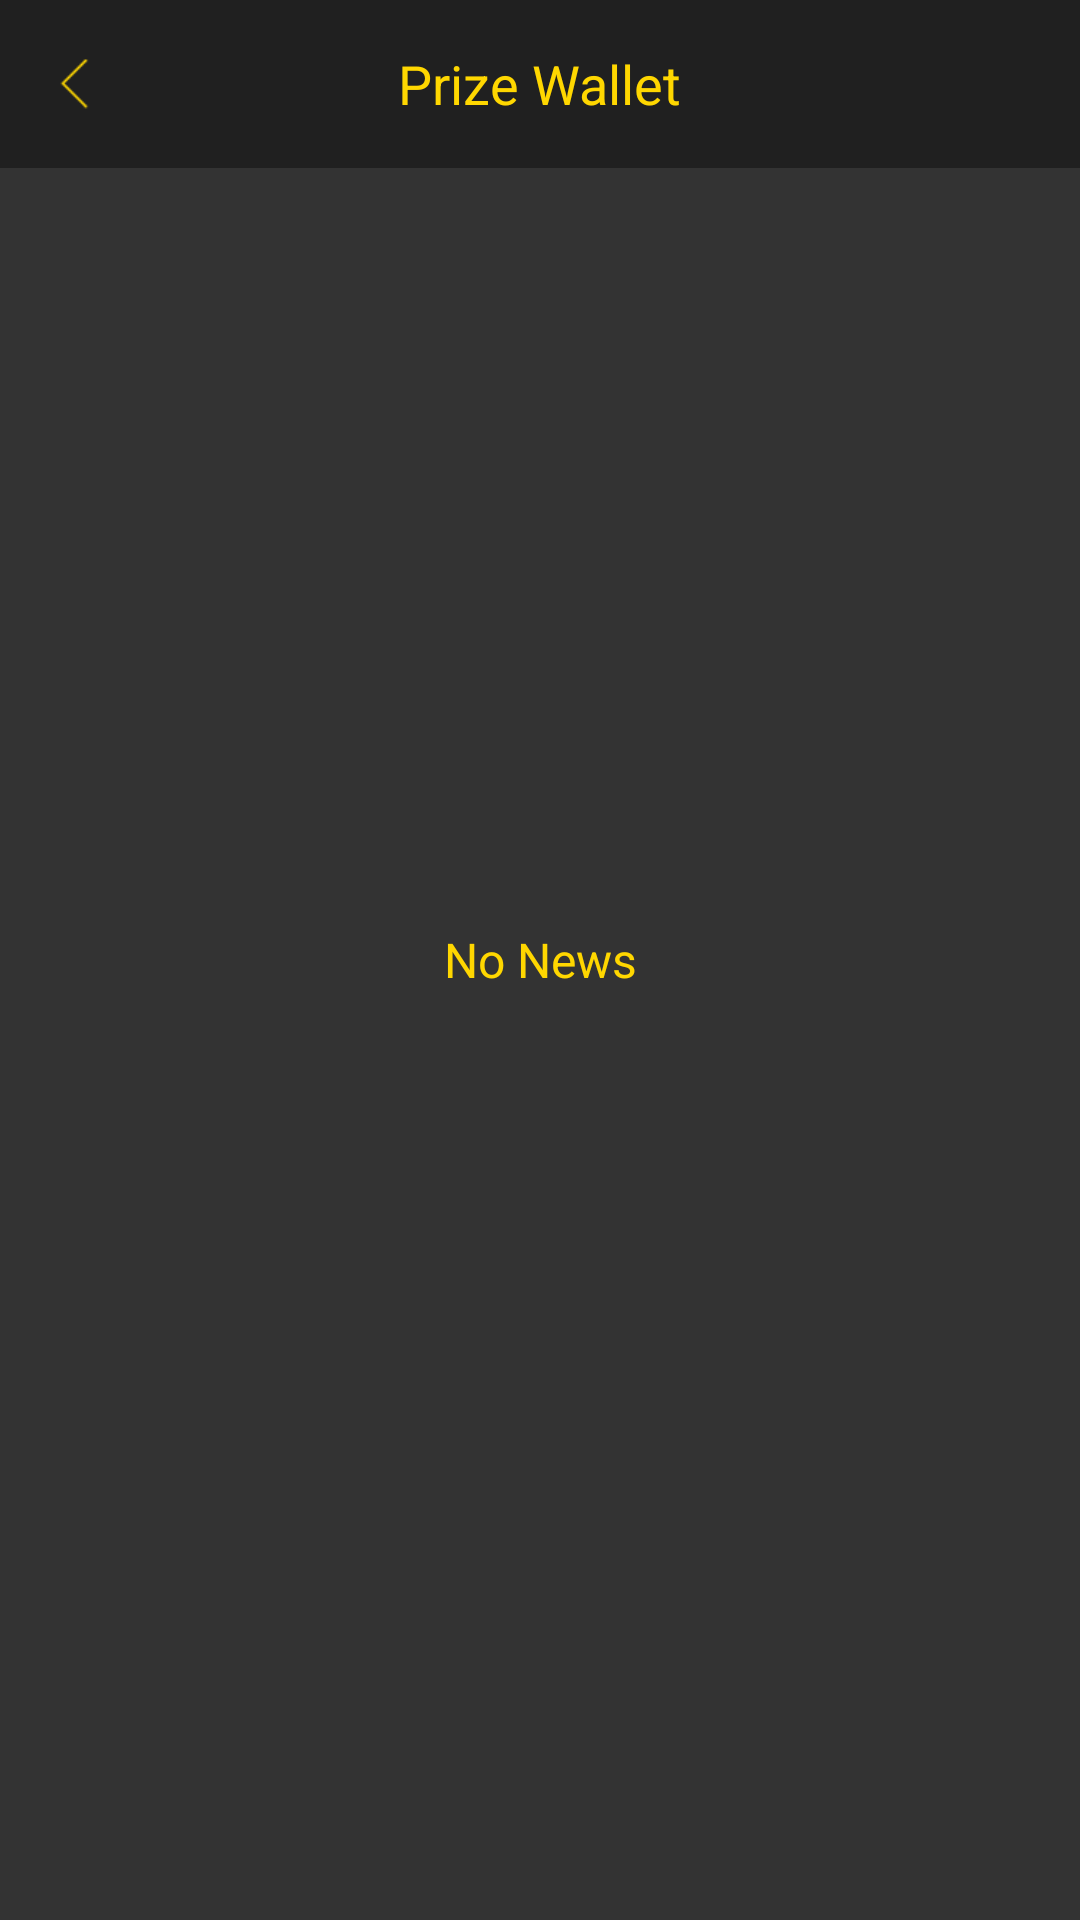

Where to tap for icons on this 1080px x 1920px app screen, as point (x, y):
back: point (74, 84)
